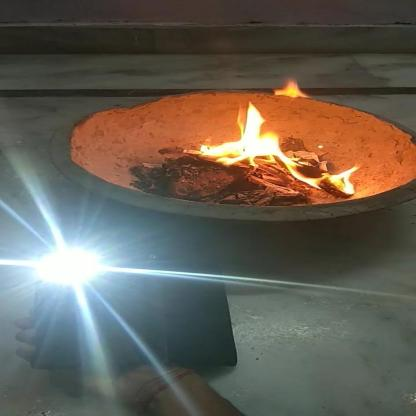fire: (186, 100, 364, 197), (262, 78, 316, 98)
